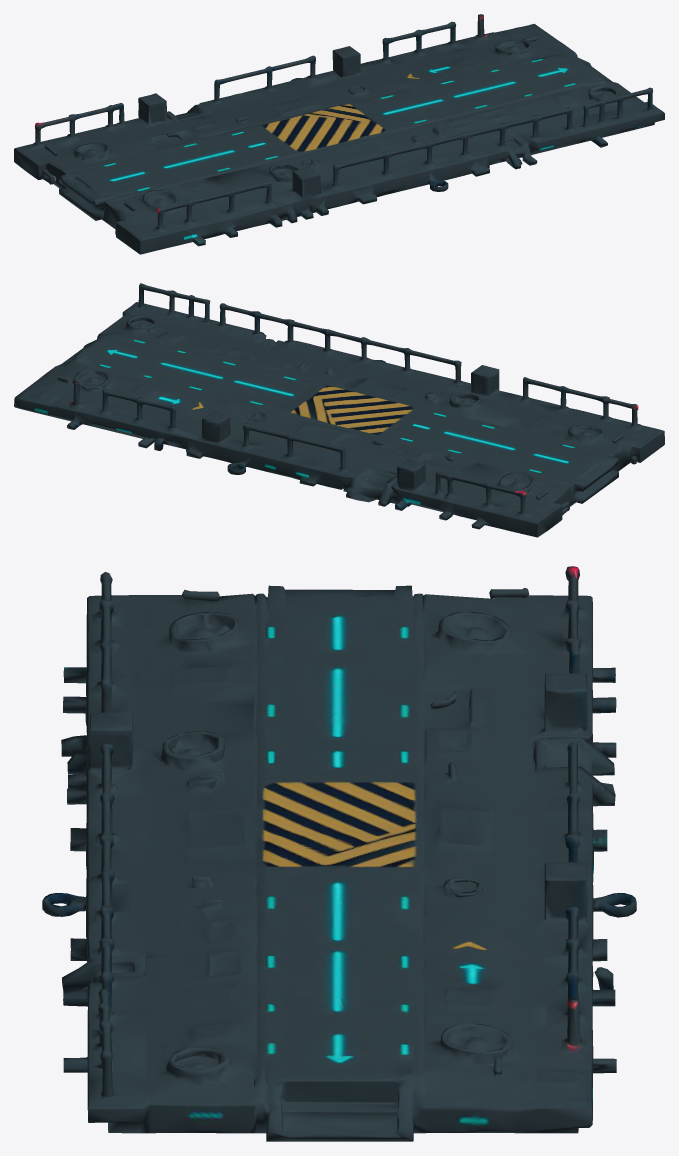
File: GroundZone2.fbx
3 renders of one model, top to bottom at view 1: azimuth 30°, elevation 25°; view 2: azimuth 150°, elevation 25°; view 3: azimuth 270°, elevation 25°, orthographic. The views are drawn at different scales.
Visible parts, largest first — view 1: tripo_node_6bd00796; view 2: tripo_node_6bd00796; view 3: tripo_node_6bd00796.
Boxes of the visible parts, box(x1,y1,x2,y2) form: tripo_node_6bd00796: box(14, 14, 664, 254); tripo_node_6bd00796: box(14, 283, 664, 537); tripo_node_6bd00796: box(42, 566, 636, 1141).
Bounding box in the file's own units: 0.9998 × 0.0706 × 0.4868.
1 material, 1 textured.
